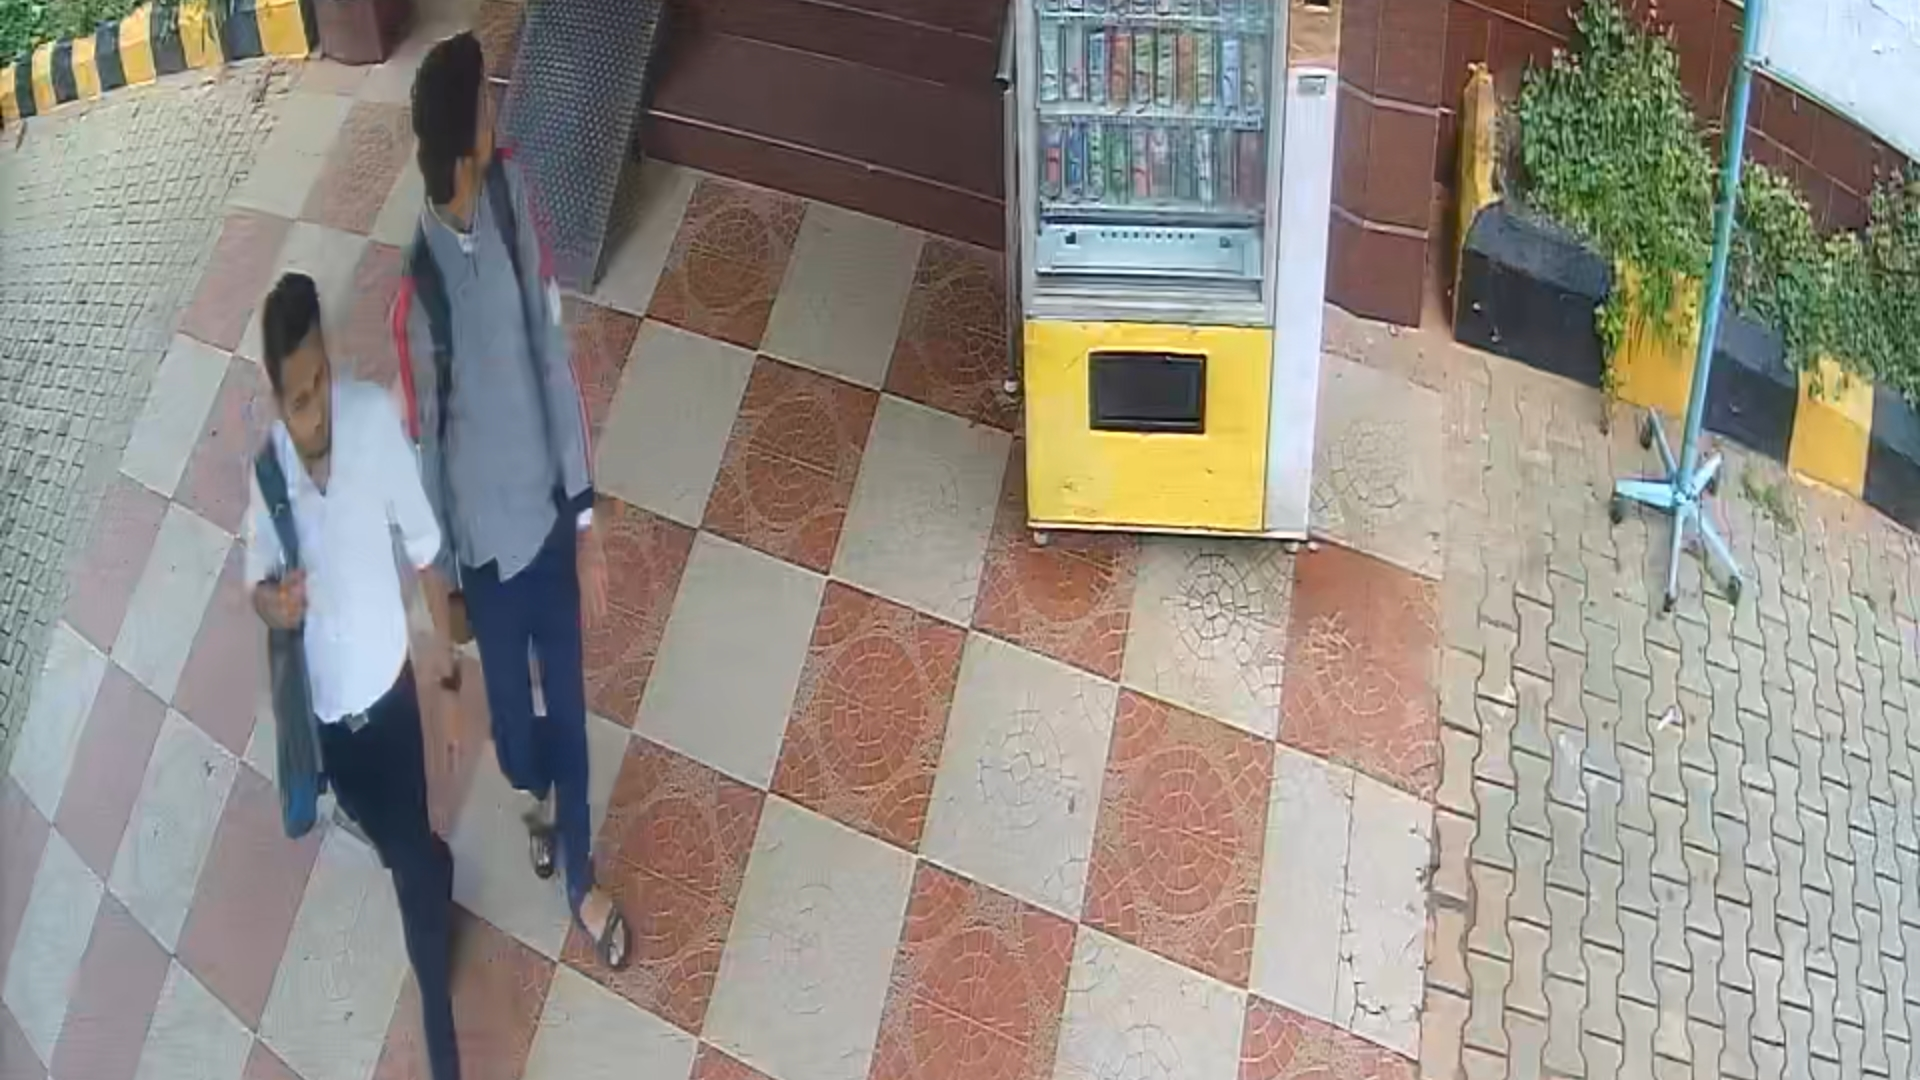intruder: (380, 38, 680, 994), (228, 276, 473, 1080)
